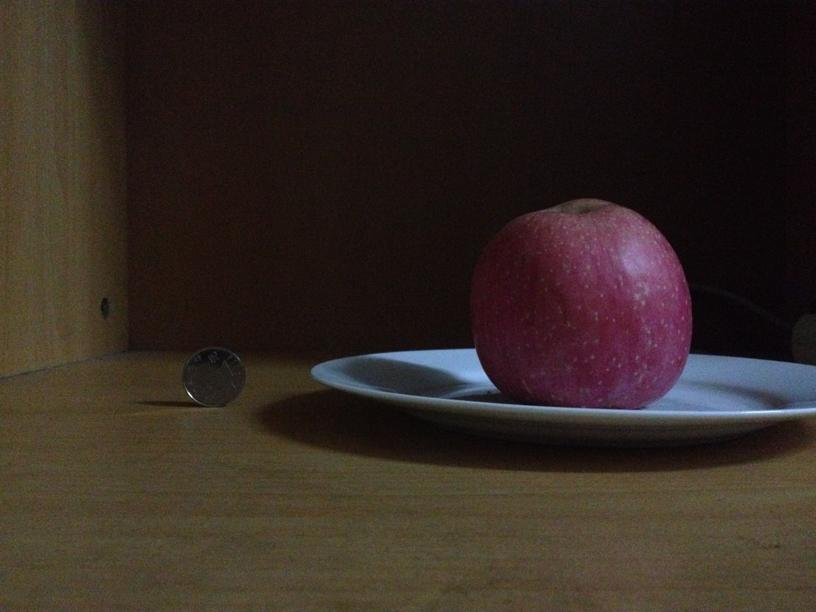apple: (475, 195, 692, 408)
coin: (181, 346, 248, 406)
